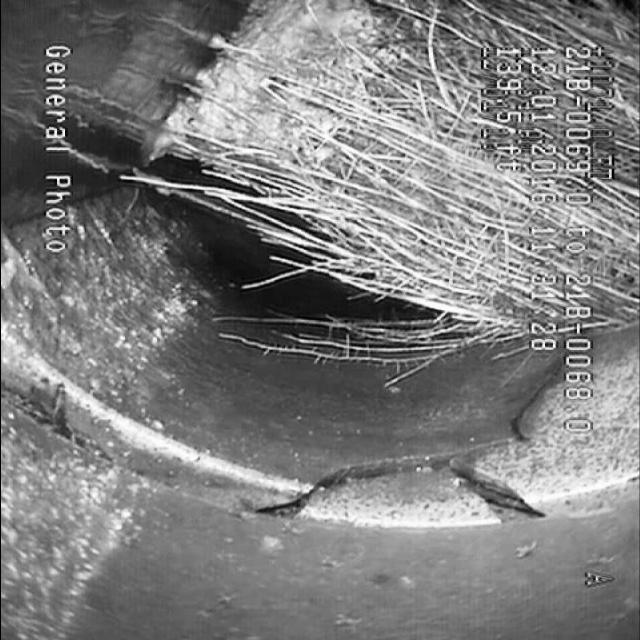Fracture: (243, 450, 591, 544)
